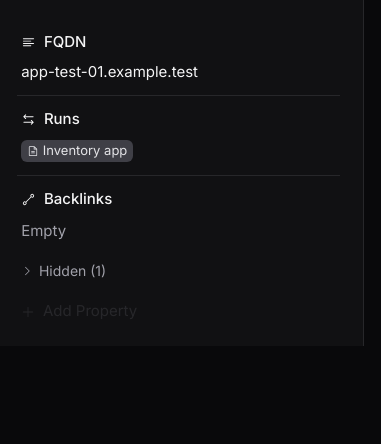
Test: test M28 counterpart rows in the property panel › test an empty counterpart waits under Hidden and a filled one shows before Backlinks
Expected: the text "Configured by" is not shown
Click the button "Hidden (1)" at (64, 270), box [17,260,110,281]
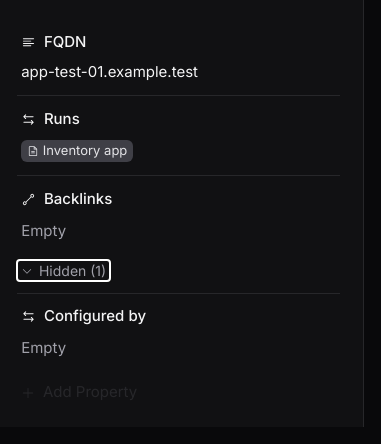
Expected: the button with aria-label "Edit Runs" is shown, [21,138,336,164]
Result: the text "Configured by" is shown at [44,305,146,328]
Result: the button with aria-label "Edit Configured by" is shown at [21,336,336,362]
